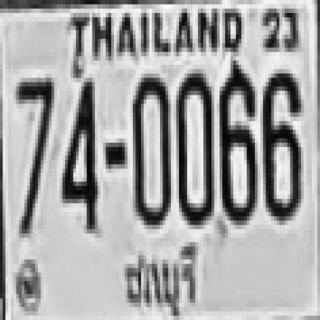N00: (175, 71, 213, 223), (130, 74, 168, 225)
N04: (60, 76, 95, 227)
N06: (217, 65, 255, 221), (260, 67, 298, 218)
N07: (14, 76, 52, 231), (14, 73, 52, 216), (14, 76, 52, 179)
P13: (122, 239, 203, 316)
